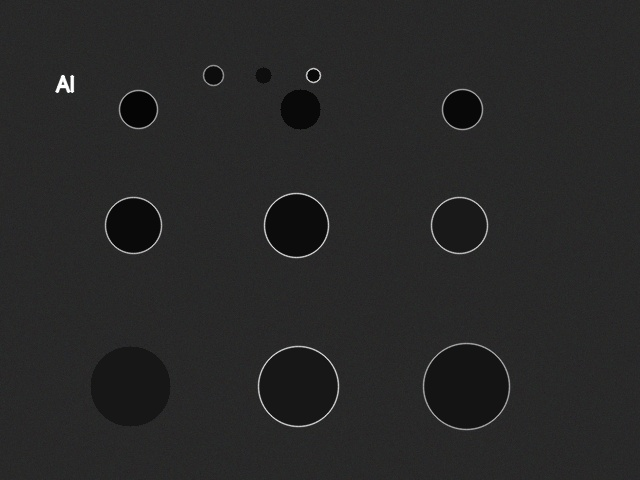hole: (423, 343, 509, 429), (90, 346, 170, 426), (258, 346, 338, 426), (264, 193, 328, 257), (105, 197, 161, 253), (431, 197, 487, 253), (280, 89, 320, 129), (442, 89, 482, 129), (119, 90, 157, 128), (203, 65, 223, 85), (255, 67, 271, 83), (306, 68, 320, 82)
